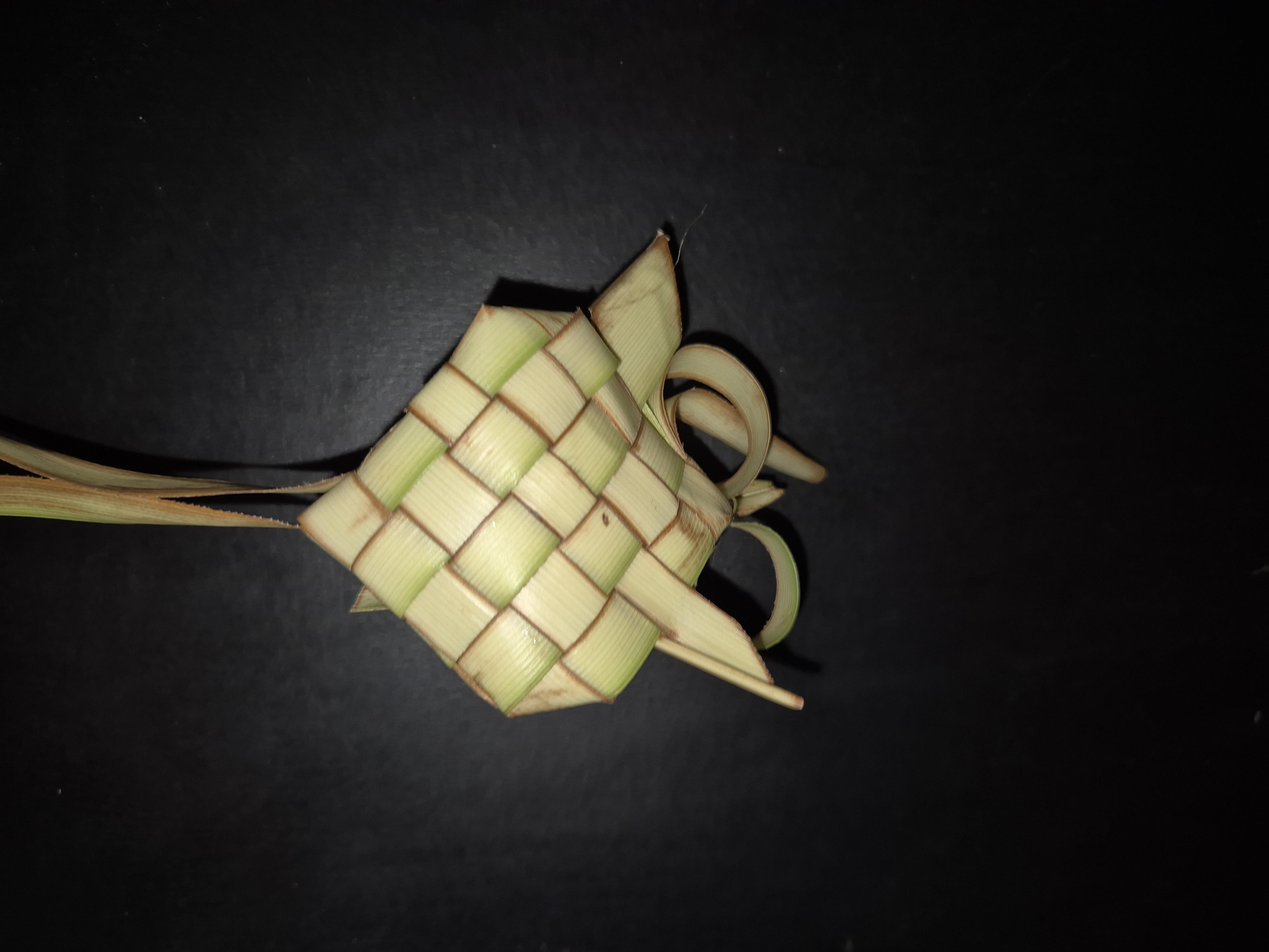Tipat Dampulan: (315, 225, 955, 618)
